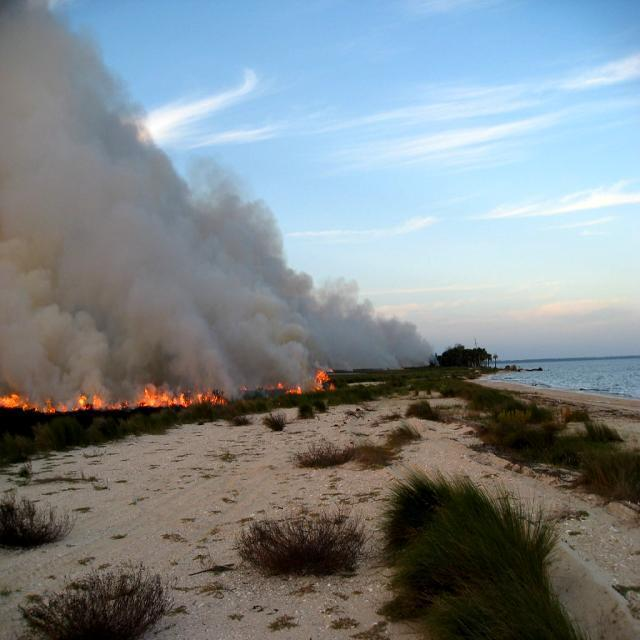Fire: (1, 380, 205, 414)
Smoke: (0, 11, 377, 399)
